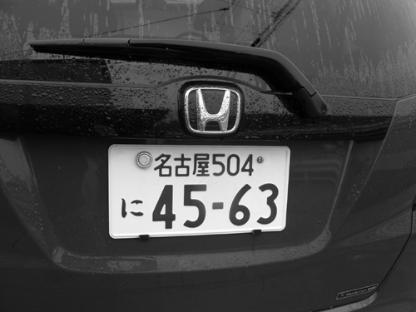license plate: (103, 140, 292, 238)
